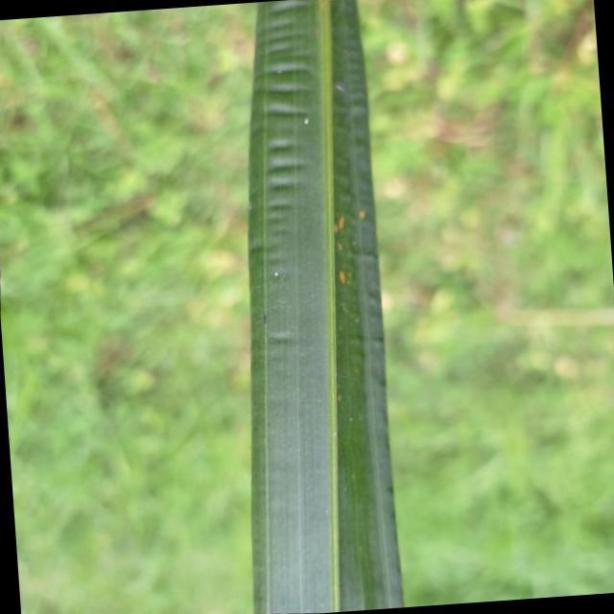Boron: (250, 0, 404, 614)
